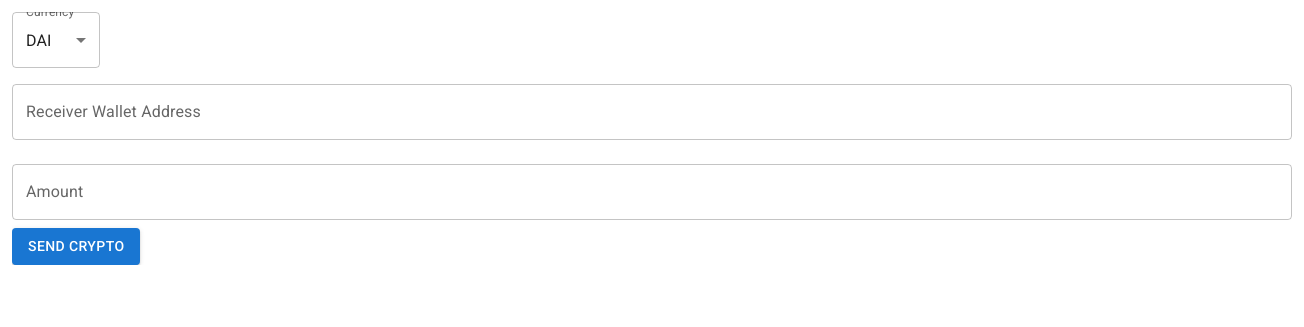
Test: TokenTransferForm › should render error message when receiver address is invalid
The image size is (1304, 327).
Type "0x123" into the field labelled "Receiver Wallet Address". click: [652, 112]
box: [12,84,1292,140]
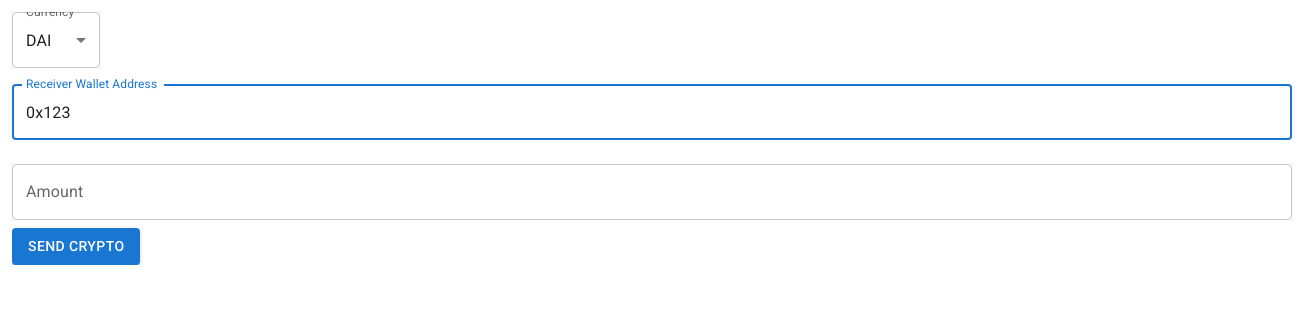
Submit the form from the button, box [12,228,140,264]
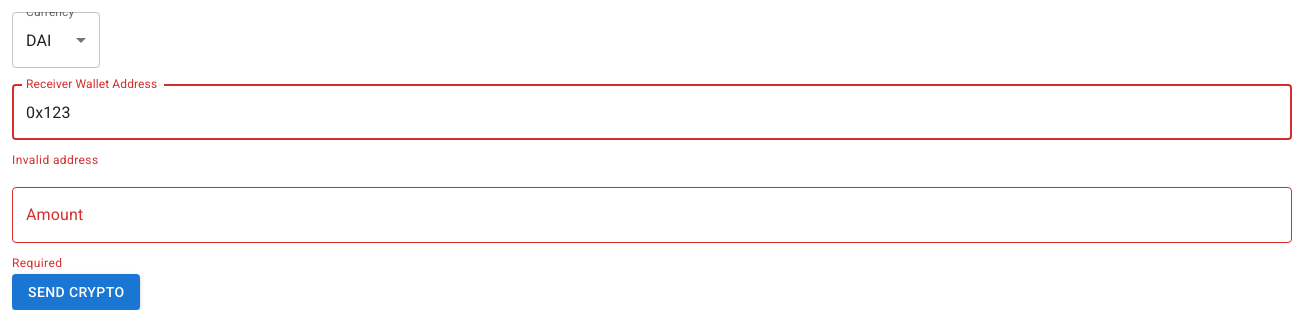
Result: the text "Invalid address" is shown at [12,153,98,167]
